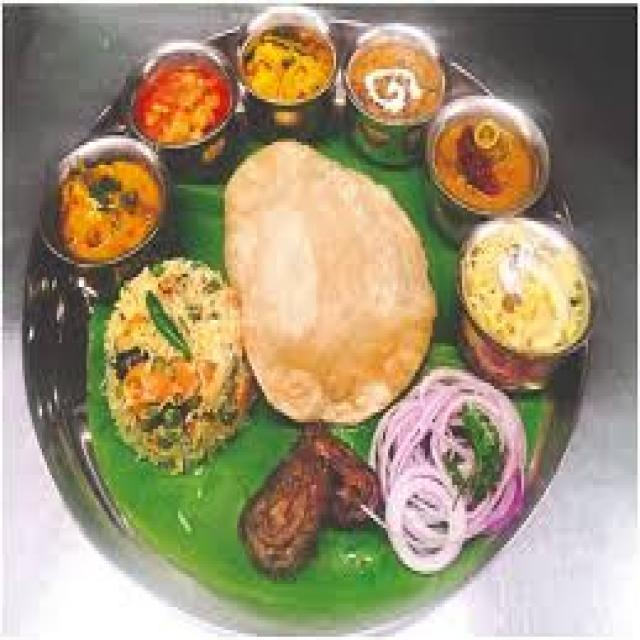dal: (45, 144, 172, 274)
papad: (218, 147, 444, 411)
pickle: (425, 104, 542, 218)
rice: (93, 251, 248, 450)
sweet: (44, 148, 168, 273), (244, 16, 334, 108)
veg-fry: (93, 240, 245, 464), (136, 55, 237, 154)
